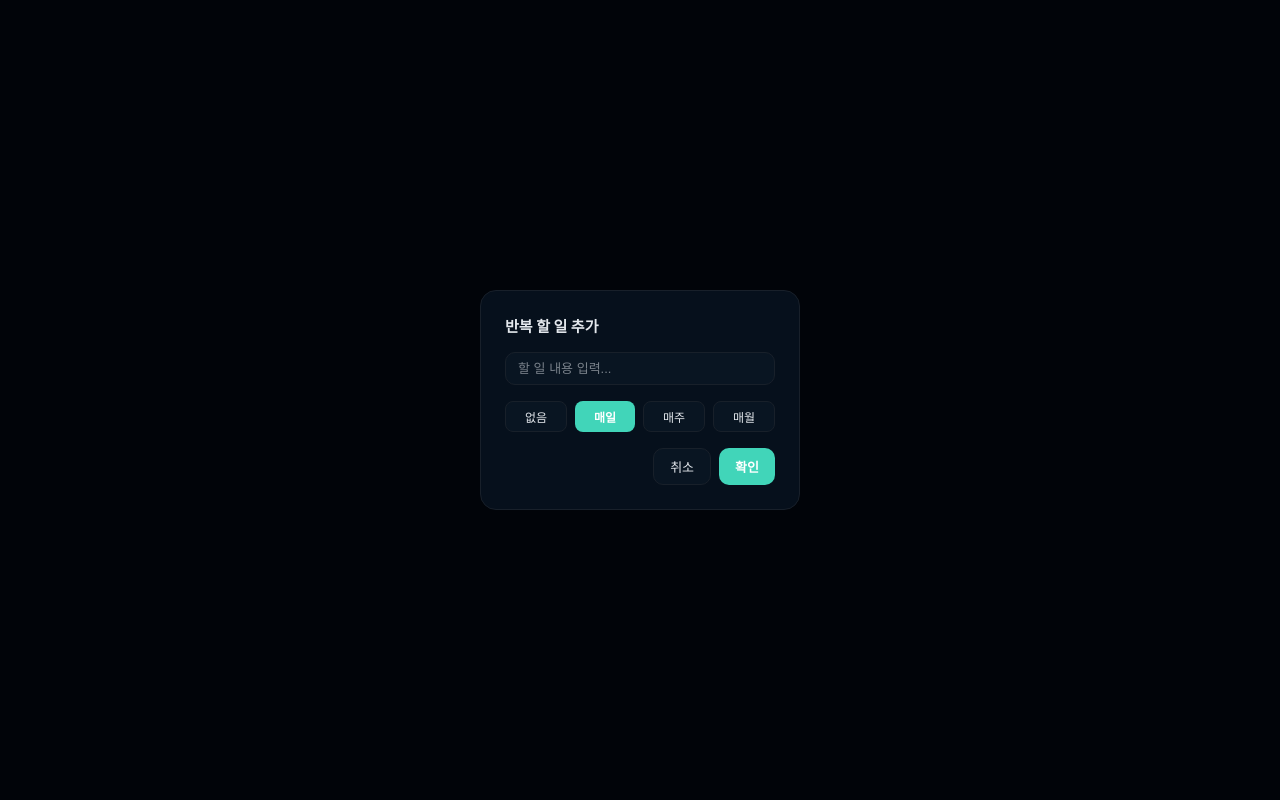
Test: RecurrenceModal › 매주 선택 시 요일 체크박스를 표시한다
Click the button "매주" at (674, 416), box [643, 401, 705, 432]
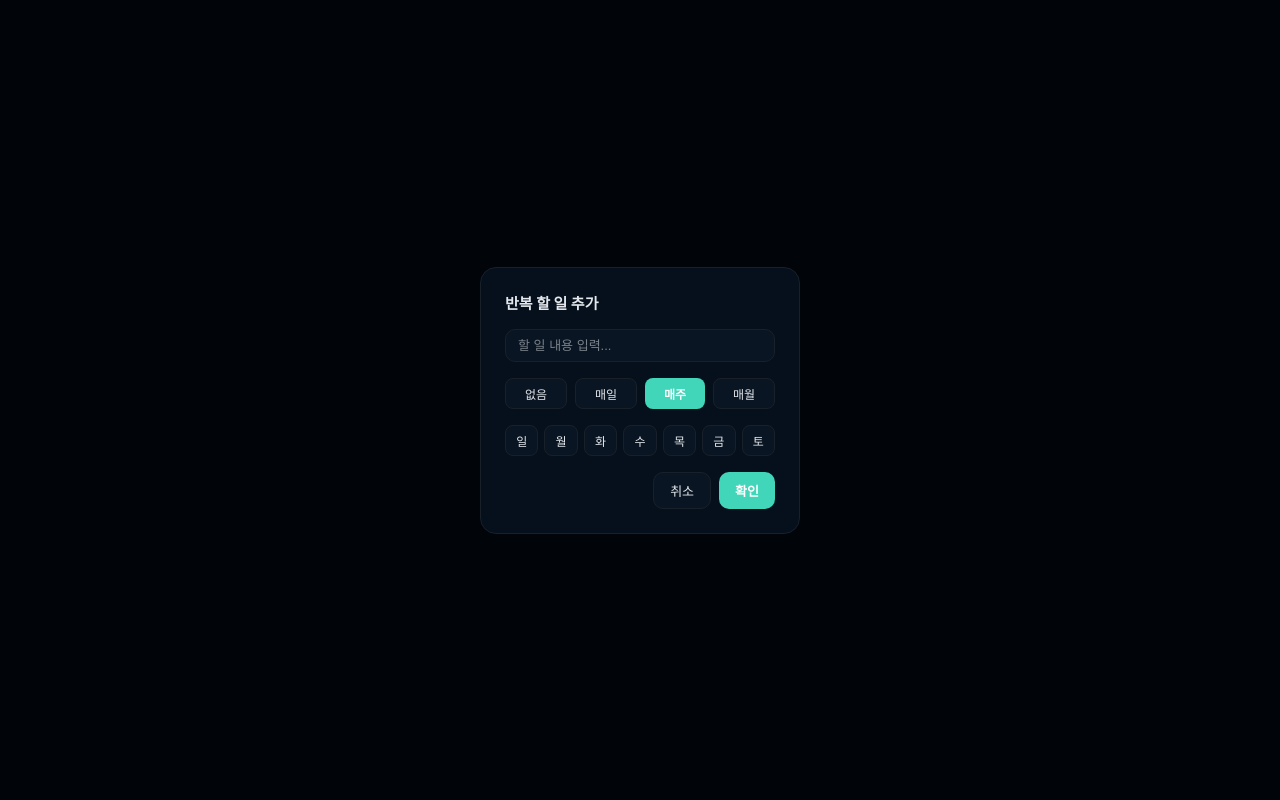
Result: the button "일" is shown at [505, 424, 538, 456]
Result: the button "월" is shown at [544, 424, 578, 456]
Result: the button "화" is shown at [584, 424, 617, 456]
